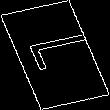L_E: (14, 33, 96, 77)
